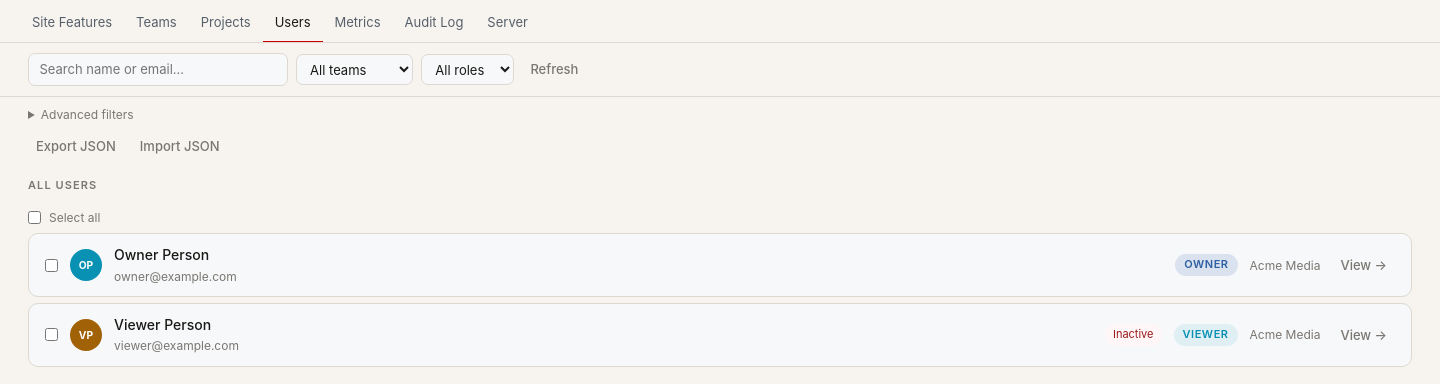
AdminUsersPage › filters visible rows by role client-side
expect the text "Owner Person" is shown: met, box top-left (114, 246), bottom-right (209, 263)
Select "viewer" in the 2nd dropdown showing "All roles" at (468, 70), box top-left (421, 54), bottom-right (514, 85)
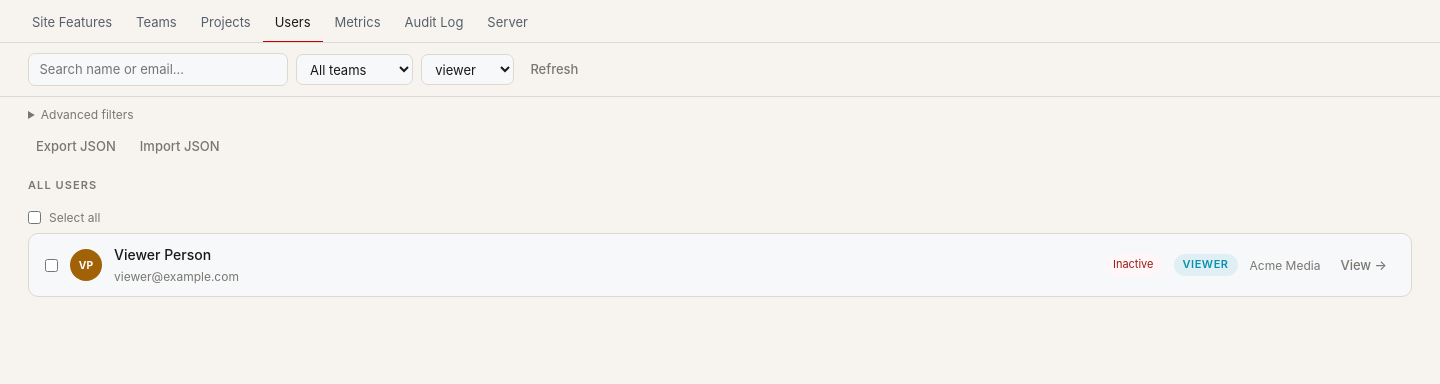
expect the text "Viewer Person" is shown: met, box top-left (114, 246), bottom-right (211, 263)
expect the text "Owner Person" is gone: met
